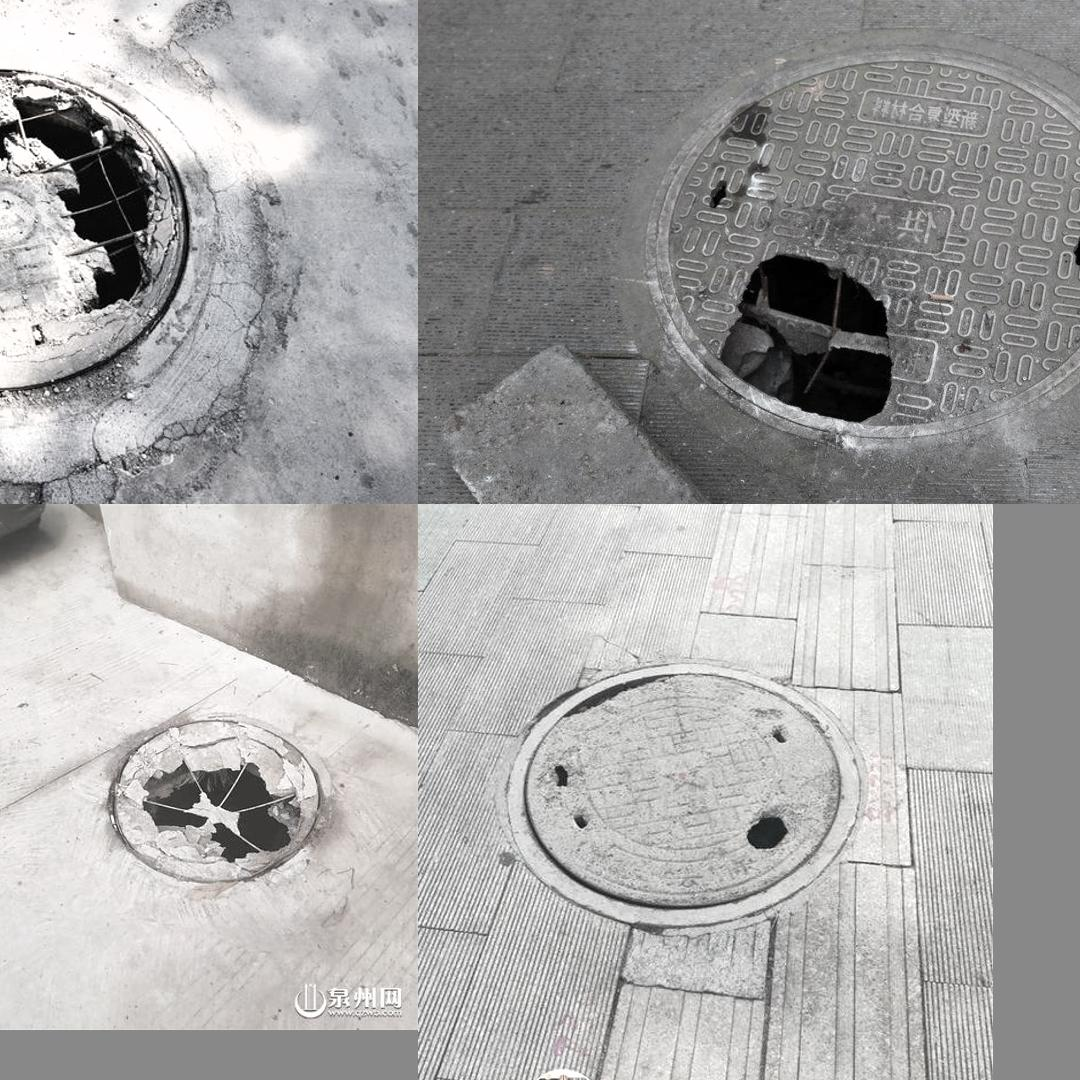broke: (644, 44, 1080, 437), (0, 33, 302, 463), (480, 634, 883, 938), (76, 709, 364, 890)
